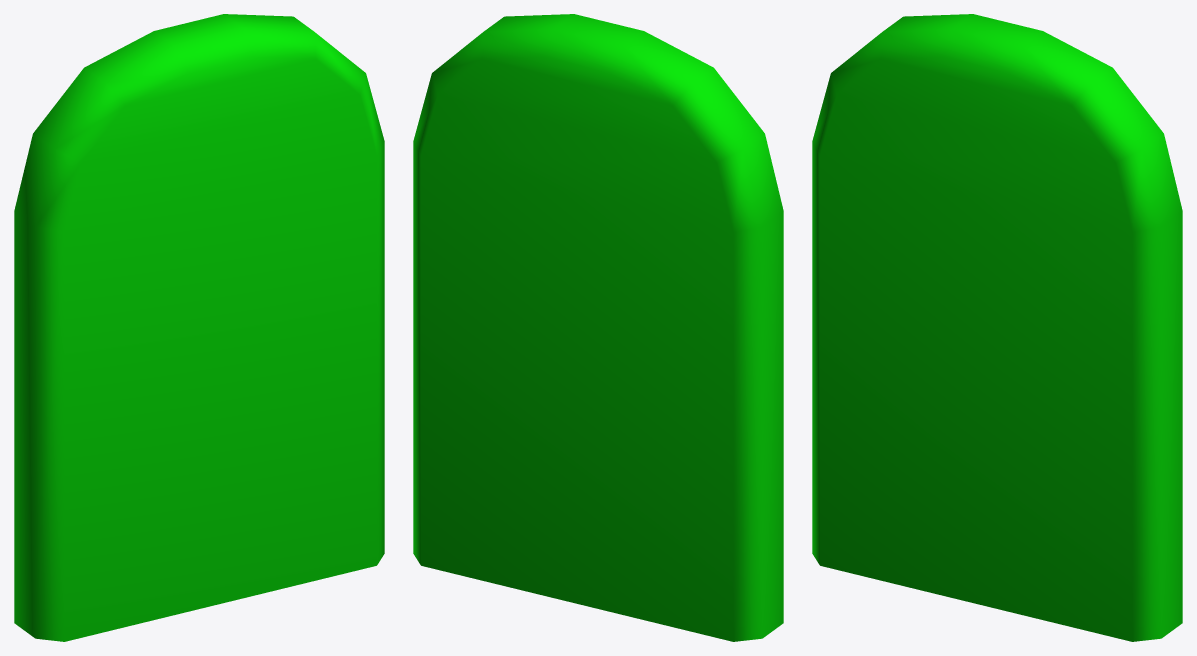
File: TumbaExport.fbx
3 renders of one model, left to right at view 1: azimuth 30°, elevation 25°; view 2: azimuth 150°, elevation 25°; view 3: azimuth 330°, elevation 25°, orthographic.
Visible parts, largest first — view 1: Tumba; view 2: Tumba; view 3: Tumba.
Part boxes in pixels (box(x1,y1,x2,y2)): Tumba: box(14, 14, 384, 641); Tumba: box(413, 14, 783, 641); Tumba: box(812, 14, 1182, 641).
Bounding box in the file's own units: 0.0341 × 0.052 × 0.00718.
